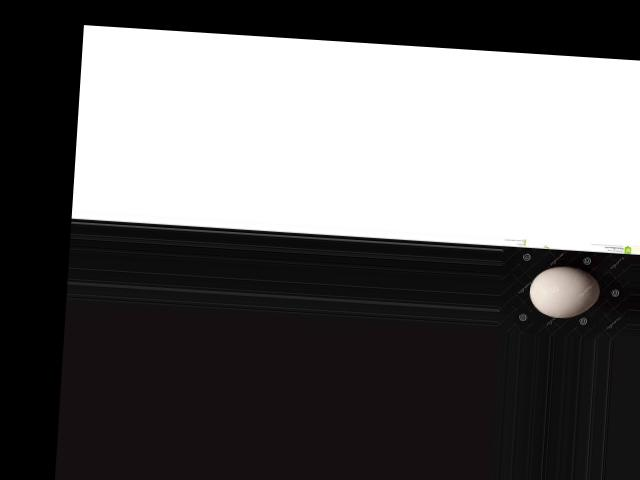egg: (527, 264, 601, 319)
